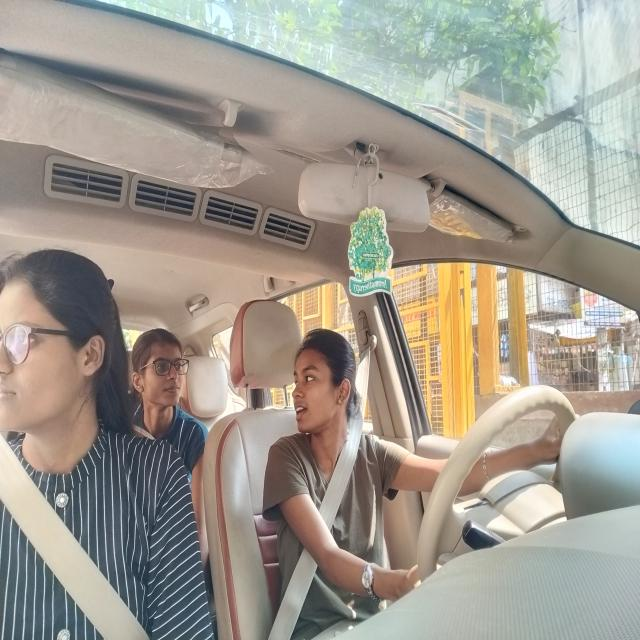LeftRight: (288, 328, 361, 458)
person: (0, 240, 123, 467), (132, 321, 196, 432)
talking: (295, 397, 313, 424)
